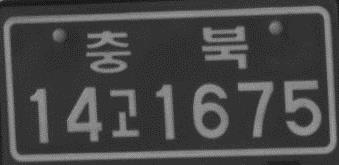1: (26, 84, 54, 145), (154, 80, 177, 142)
4: (64, 83, 103, 144)
5: (281, 77, 323, 138)
6: (188, 80, 231, 140)
7: (235, 79, 275, 141)
고: (107, 86, 140, 140)
충북_D: (84, 24, 250, 76)
